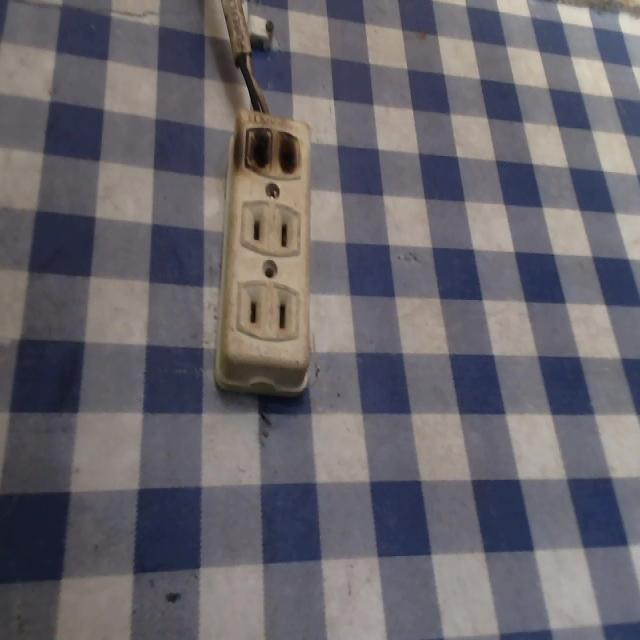-: (238, 114, 304, 182)
